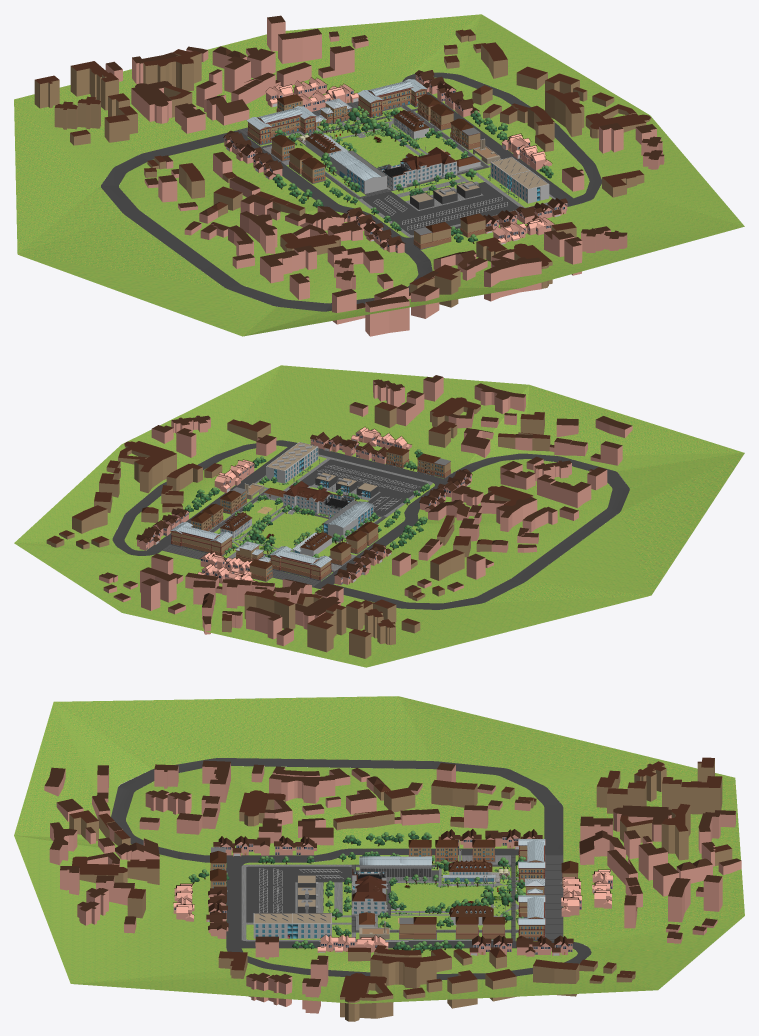
3 renders of one model, top to bottom at view 1: azimuth 30°, elevation 25°; view 2: azimuth 150°, elevation 25°; view 3: azimuth 270°, elevation 25°, orthographic. The views are drawn at different scales.
Parts seen in each view (by area): view 1: Ground, Blocks, Blocks.002, CampusBuildings.005, CityBuildings.002, CityBuildings, CityBuildings.003, CityBuildings.004, Studentenwohnheim, CampusBuildings.002, Main, Trees (+3 smaller); view 2: Ground, Blocks, Blocks.002, CampusBuildings.005, CityBuildings.002, CityBuildings, CityBuildings.004, CityBuildings.003, Studentenwohnheim, Main, CampusBuildings.002, BeegBuilding (+2 smaller); view 3: Ground, Blocks, Blocks.002, CampusBuildings.005, CityBuildings.003, CityBuildings.004, Studentenwohnheim, CityBuildings.002, CampusBuildings.002, CityBuildings, Trees, BeegBuilding (+3 smaller).
Boxes of the visible parts, left/top/right/bottom form: Ground: left=14, top=14, right=744, bottom=336; Blocks: left=105, top=15, right=664, bottom=336; Blocks.002: left=34, top=29, right=651, bottom=307; CampusBuildings.005: left=238, top=79, right=429, bottom=195; CityBuildings.002: left=483, top=133, right=567, bottom=233; CityBuildings: left=223, top=83, right=358, bottom=179; CityBuildings.003: left=265, top=70, right=479, bottom=117; CityBuildings.004: left=341, top=207, right=554, bottom=253; Studentenwohnheim: left=490, top=157, right=549, bottom=203; CampusBuildings.002: left=417, top=94, right=480, bottom=150; Main: left=377, top=147, right=456, bottom=189; Trees: left=275, top=106, right=401, bottom=163; Ground: left=14, top=365, right=744, bottom=667; Blocks: left=99, top=375, right=632, bottom=646; Blocks.002: left=46, top=397, right=550, bottom=658; CampusBuildings.005: left=162, top=512, right=378, bottom=586; CityBuildings.002: left=214, top=432, right=386, bottom=492; CityBuildings: left=200, top=543, right=391, bottom=584; CityBuildings.004: left=351, top=426, right=472, bottom=511; CityBuildings.003: left=136, top=508, right=257, bottom=583; Studentenwohnheim: left=266, top=442, right=318, bottom=483; Main: left=283, top=481, right=354, bottom=516; CampusBuildings.002: left=190, top=487, right=247, bottom=531; BeegBuilding: left=323, top=500, right=374, bottom=539; Ground: left=14, top=696, right=744, bottom=1003; Blocks: left=44, top=760, right=741, bottom=1013; Blocks.002: left=69, top=757, right=732, bottom=1021; CampusBuildings.005: left=356, top=839, right=578, bottom=941; CityBuildings.003: left=469, top=869, right=613, bottom=956; CityBuildings.004: left=173, top=836, right=316, bottom=921; Studentenwohnheim: left=253, top=913, right=331, bottom=938; CityBuildings.002: left=206, top=886, right=388, bottom=952; CampusBuildings.002: left=399, top=917, right=505, bottom=939; CityBuildings: left=438, top=829, right=582, bottom=916; Trees: left=403, top=856, right=525, bottom=923; BeegBuilding: left=359, top=856, right=431, bottom=881.
Size of the model in its own units: 703 by 54.26 by 695.
20 materials, 15 textured.
